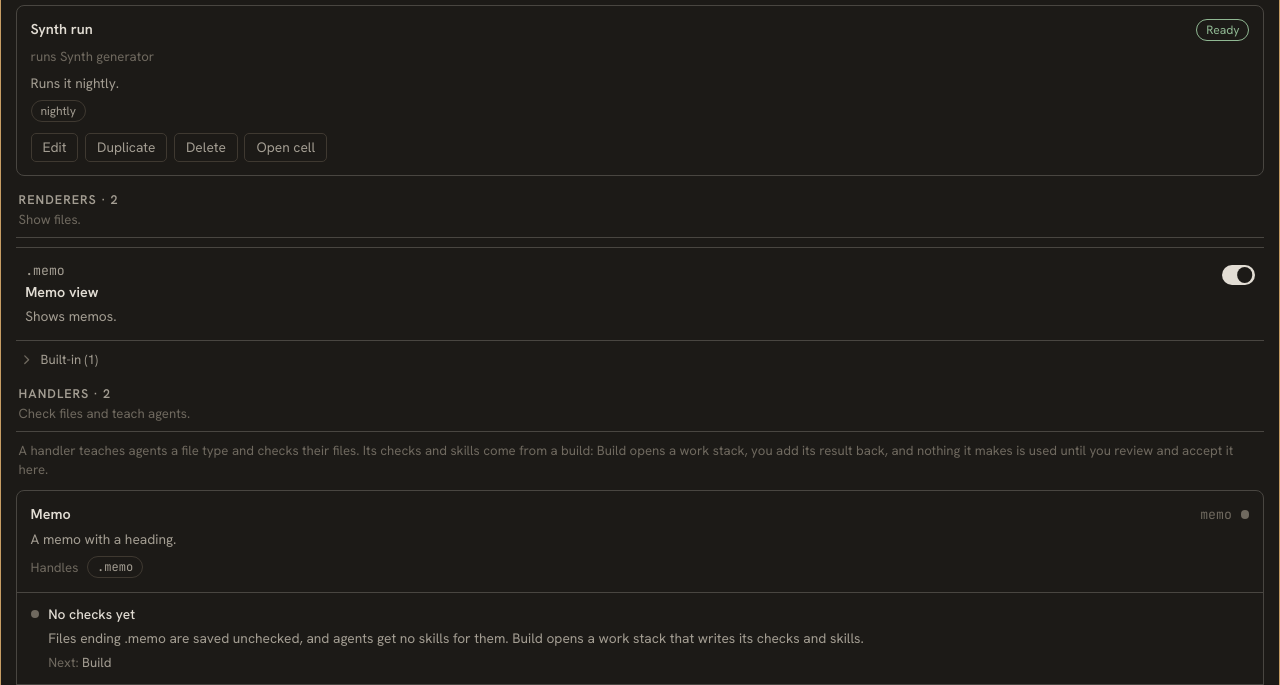
The Capabilities manage card › lists the groups in order with their subtitles; built-ins sit in a folded disclosure
(page scrolled)
Expected: the text "Show files." is shown, [19,211,81,228]
Expected: the text "Check files and teach agents." is shown, [19,406,190,422]
Click the button "Built-in (1)": [58, 360] box [16,350,100,370]
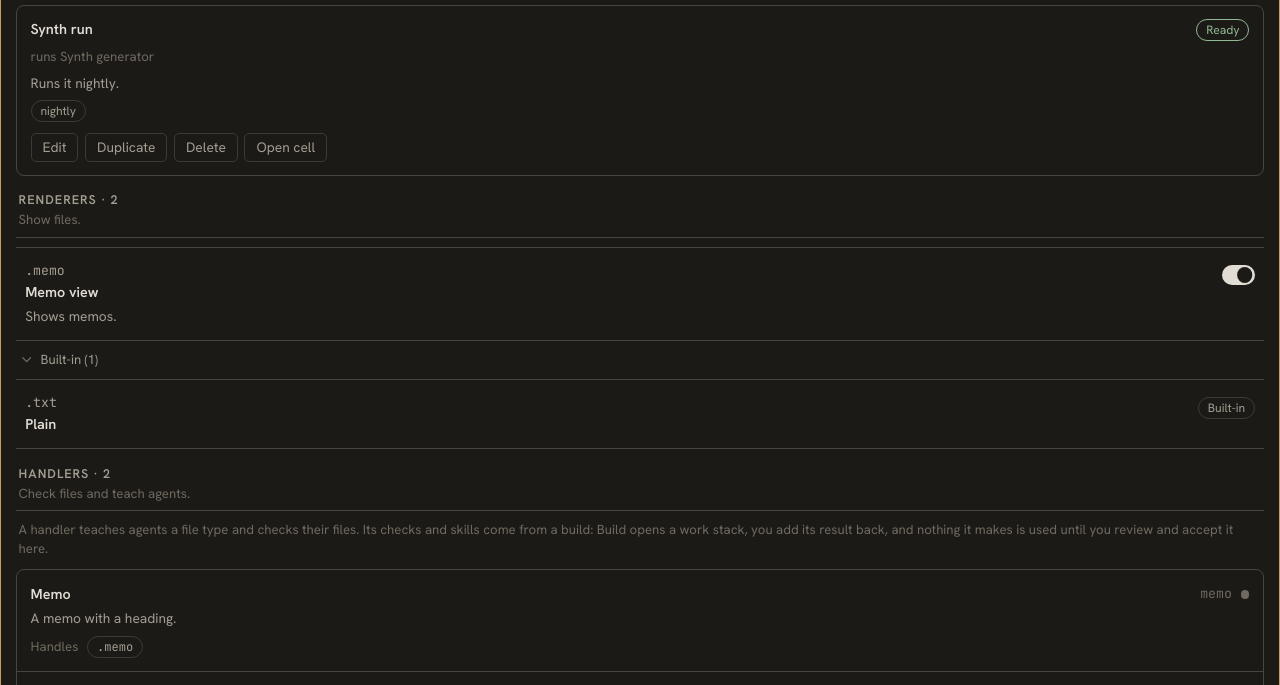
Expected: the element named "Synth run runner" shows "runs Synth generator", [16,4,1264,176]
Now the button ".txt Plain" is shown, box [25,393,1187,435]
